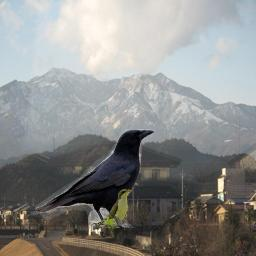Crow: (35, 129, 155, 228)
Cuckoo: (97, 188, 133, 231)
